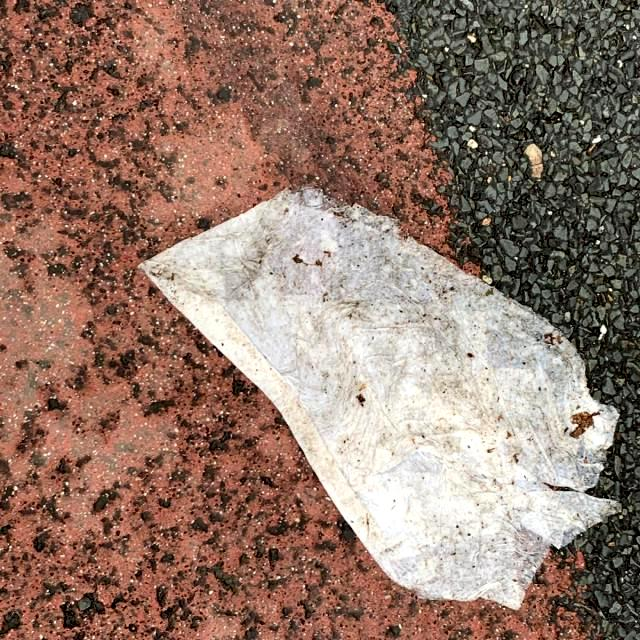Paper: (136, 183, 624, 612)
